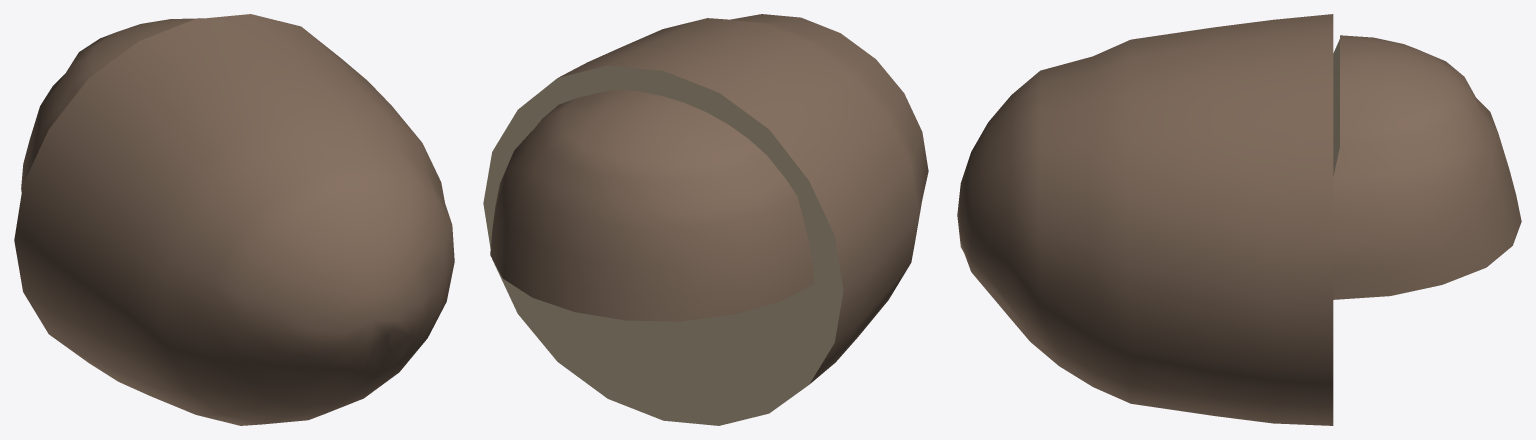
Rendered from Potato2A.fbx.
3 views of the same model, side by side, from view 1: azimuth 30°, elevation 25°; view 2: azimuth 150°, elevation 25°; view 3: azimuth 270°, elevation 25° (orthographic). The views are drawn at different scales.
Visible parts, largest first — view 1: PotatoPeice1A, PotatoPeice2A; view 2: PotatoPeice1A, PotatoPeice2A; view 3: PotatoPeice1A, PotatoPeice2A.
Part boxes in pixels (x1,y1,x2,y2): PotatoPeice1A: (14,14,454,425); PotatoPeice2A: (21,18,202,191); PotatoPeice1A: (483,14,928,425); PotatoPeice2A: (490,89,814,321); PotatoPeice1A: (957,14,1333,425); PotatoPeice2A: (1333,35,1521,299).
Bounding box in the file's own units: 2.39 × 2.22 × 3.05.
